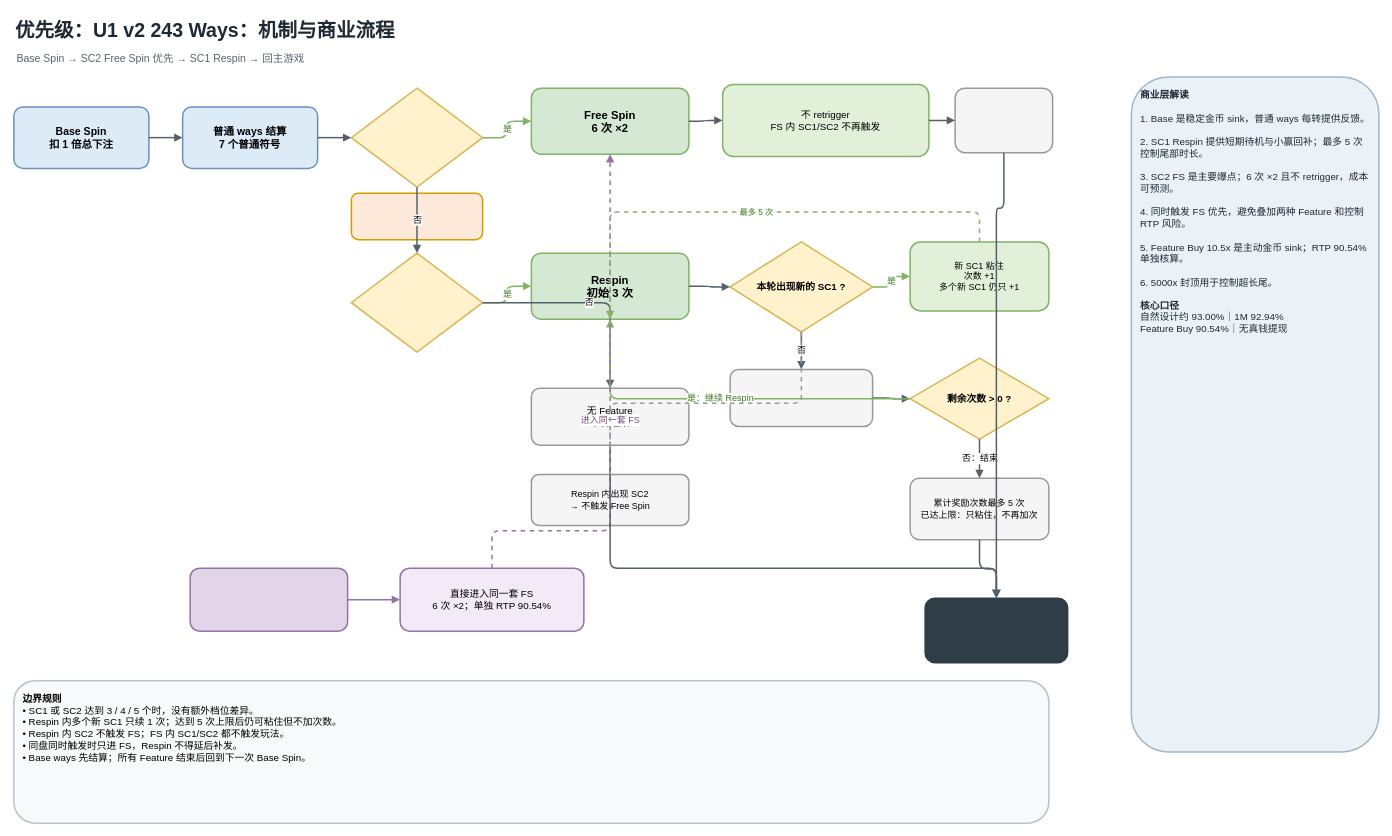
Image size: 1392x836. Some labels were removed from this diagram. Here are the shapes that lost their labels. From the top down, the centre of each, then its label:
At [416,137]: "SC2 ≥ 3 ?".
At [1003,120]: "触发总赢封顶 5000x".
At [416,216]: "同一 Base Spin 同时触发： Free Spin 优先；Respin 不补发、不延后".
At [416,302]: "SC1 ≥ 3 ?".
At [801,397]: "本次 Respin 结束 剩余次数 −1".
At [268,599]: "Feature Buy 支付 10.5x 总下注".
At [996,630]: "回主游戏 可继续下一次 Base Spin".
